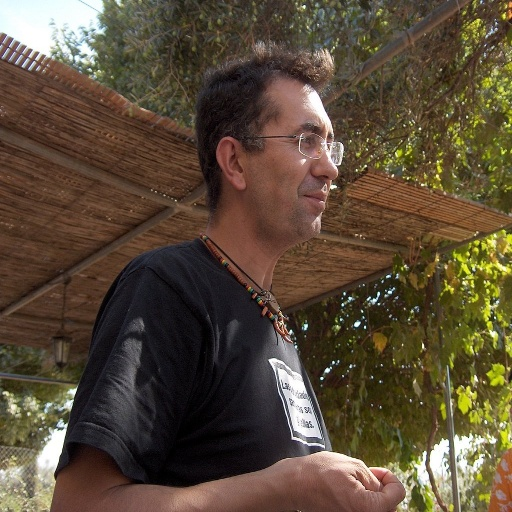hand: (240, 449, 400, 512)
